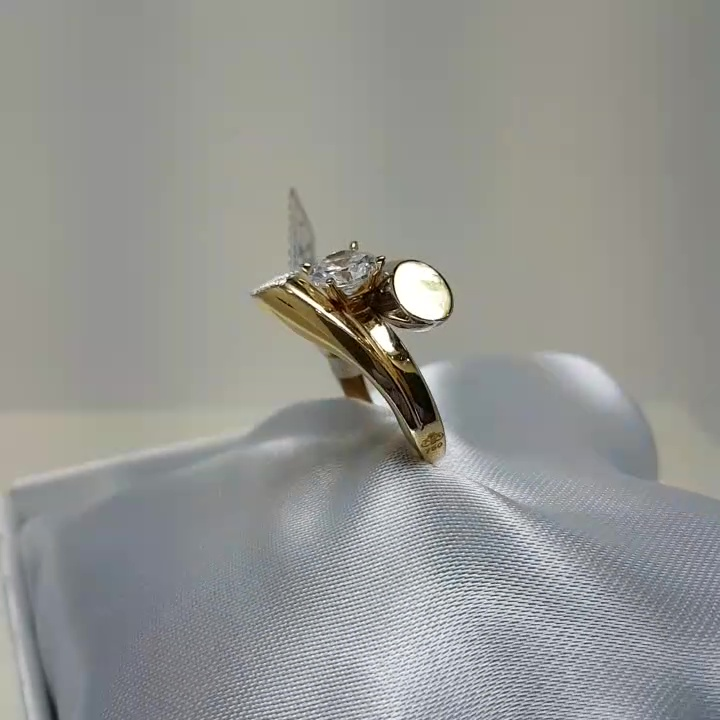Ring 7: (249, 215, 504, 478)
